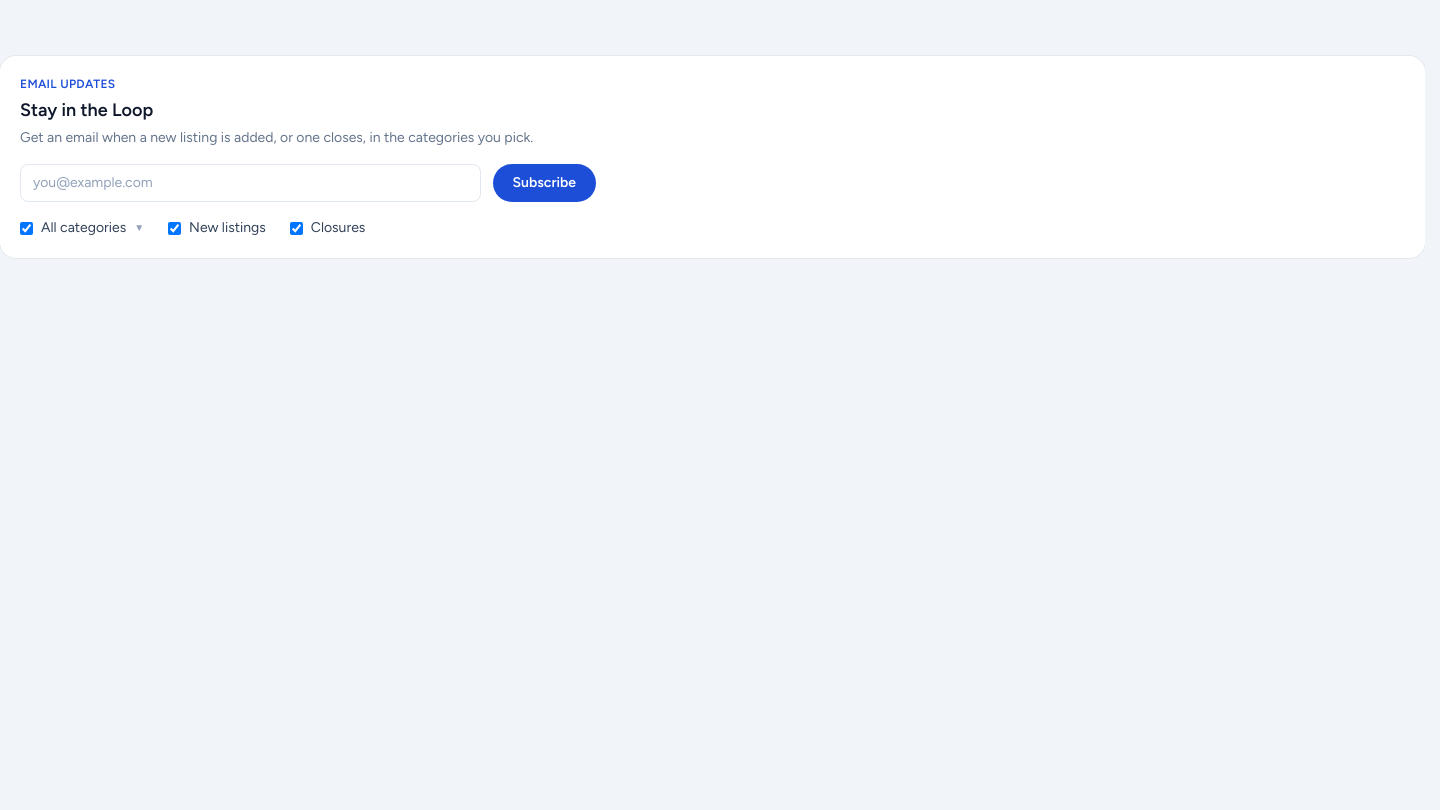
Test: SubscribeSection › closing the picker (Escape) keeps the picked categories, not resetting to "All categories"
Step 1. Click the button named "All categories" → (82, 228), box [20,218,144,238]
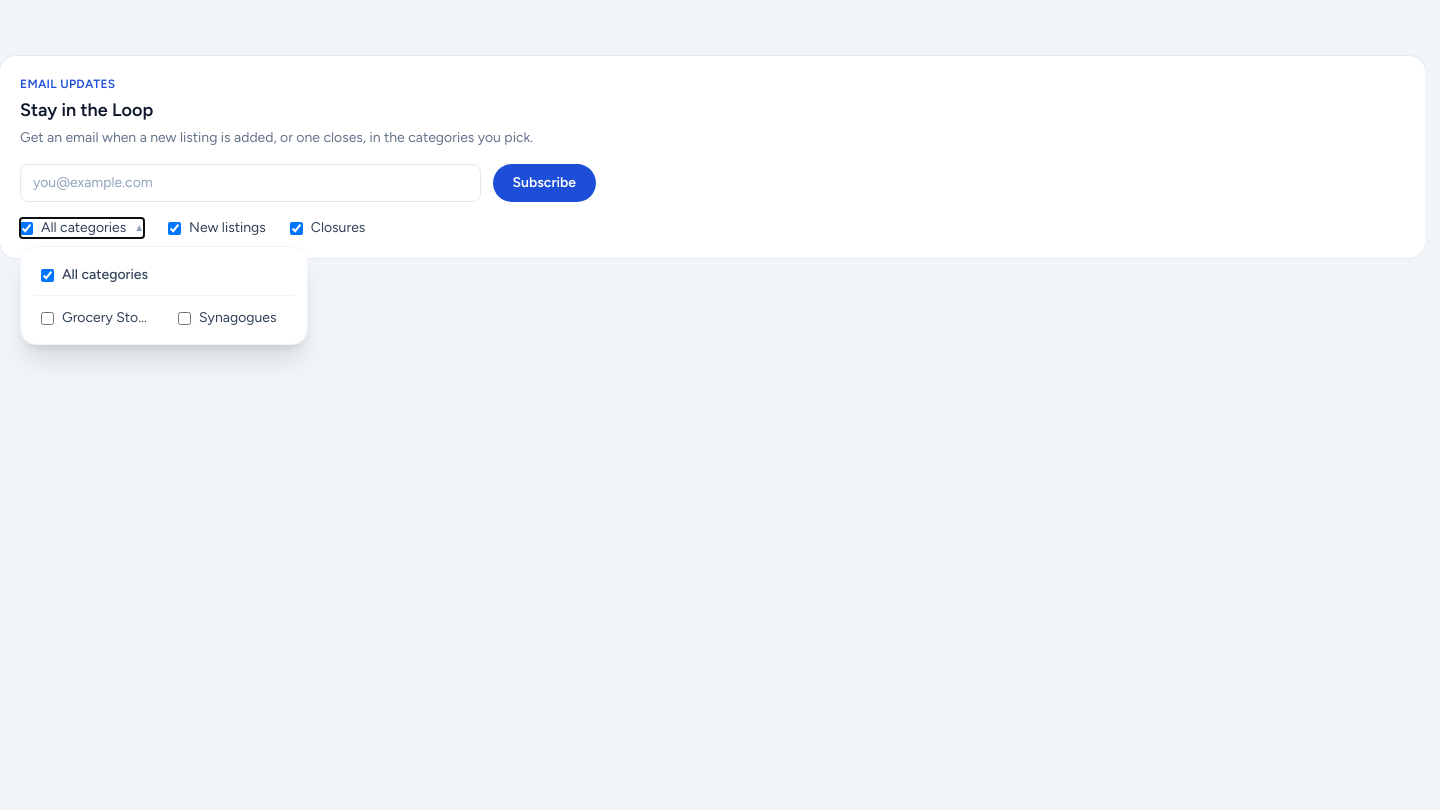
Step 2. Click the text "Grocery Stores" → (106, 318), box [62,308,150,328]
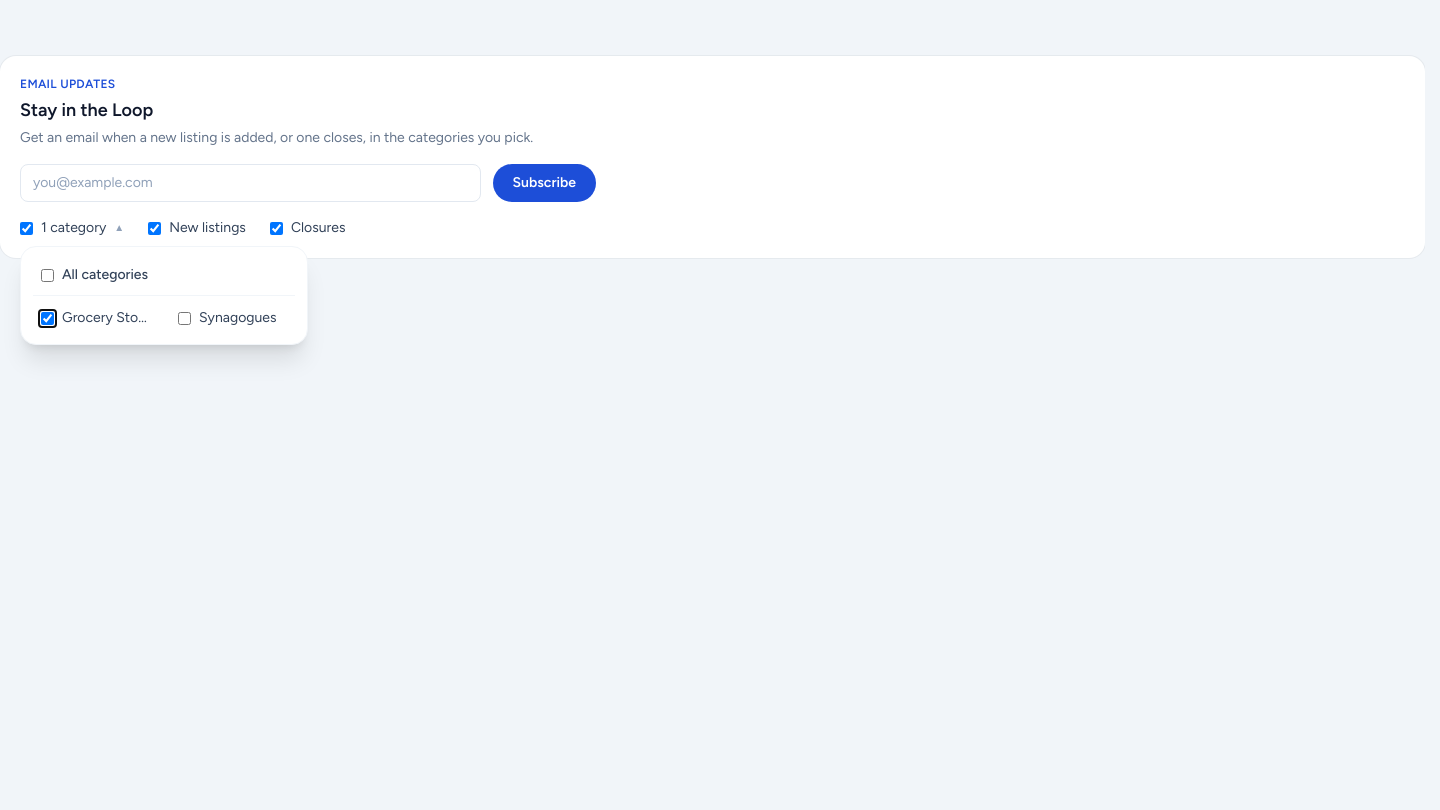
Step 3. Press Escape
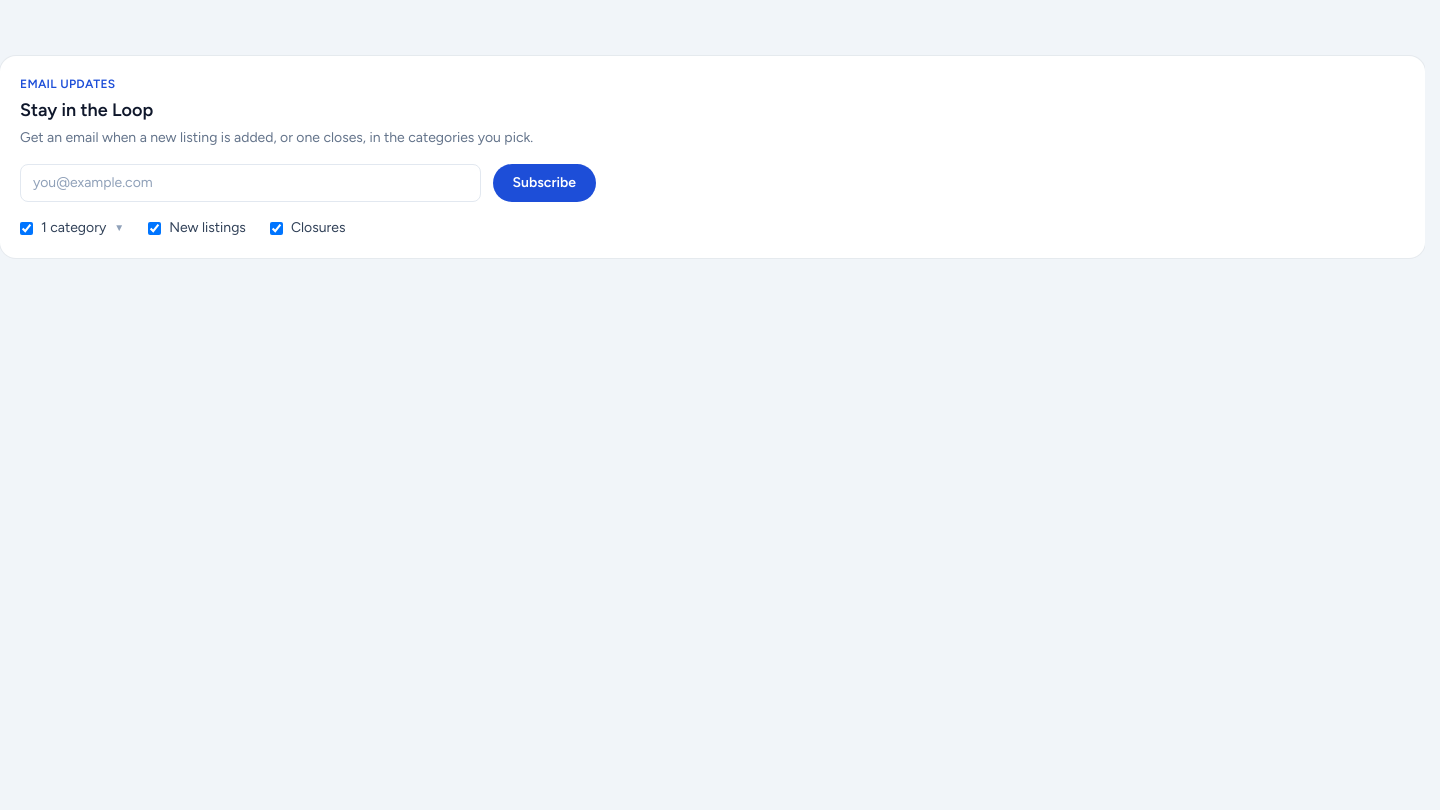
Check: the button named "1 category" is shown, box [20,218,124,238]
Check: the text "Grocery Stores" is gone
